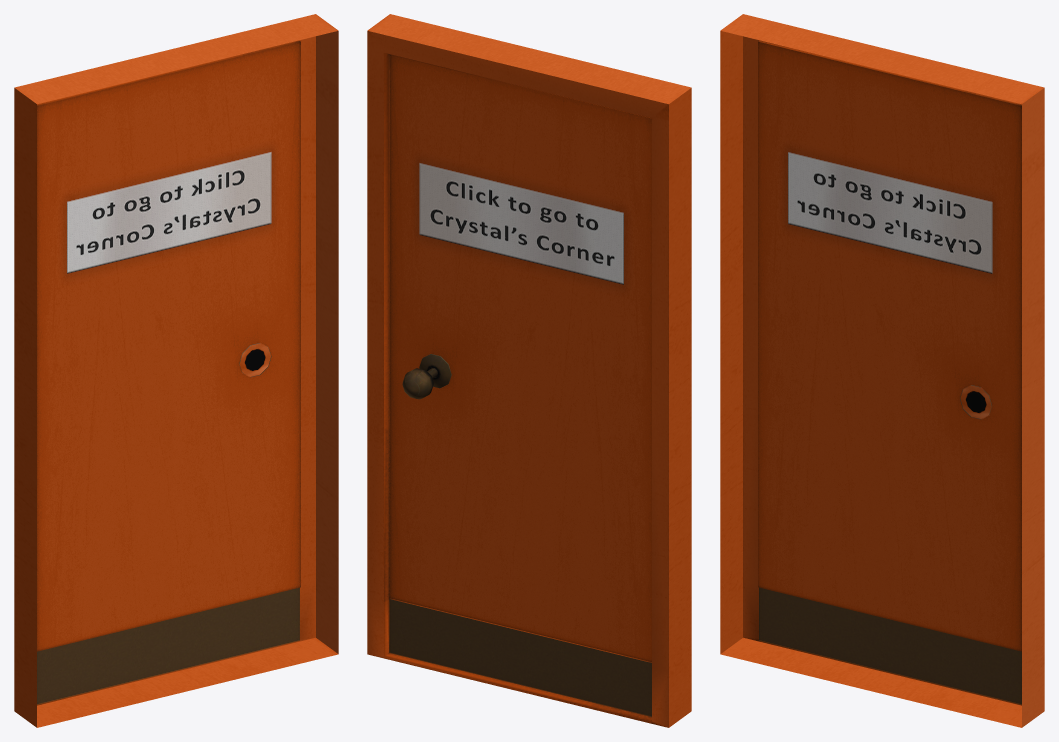
Rendered from doorcrystal.obj.
The picture shows the model from 3 angles, left to right: view 1: azimuth 30°, elevation 25°; view 2: azimuth 150°, elevation 25°; view 3: azimuth 330°, elevation 25°; orthographic projection.
Parts seen in each view (by area): view 1: doorCrystal; view 2: doorCrystal; view 3: doorCrystal.
Boxes of the visible parts, <box> form: doorCrystal: <box>14,14,338,727</box>; doorCrystal: <box>367,14,691,727</box>; doorCrystal: <box>720,14,1044,727</box>.
Size of the model in its own units: 1.17 by 2.31 by 0.2978.
1 material, 1 textured.
